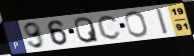6: (46, 19, 70, 47)
9: (22, 21, 46, 50)
C: (96, 14, 123, 41)
I: (155, 7, 171, 36)
O: (124, 10, 150, 38)
Q: (74, 16, 100, 44)
